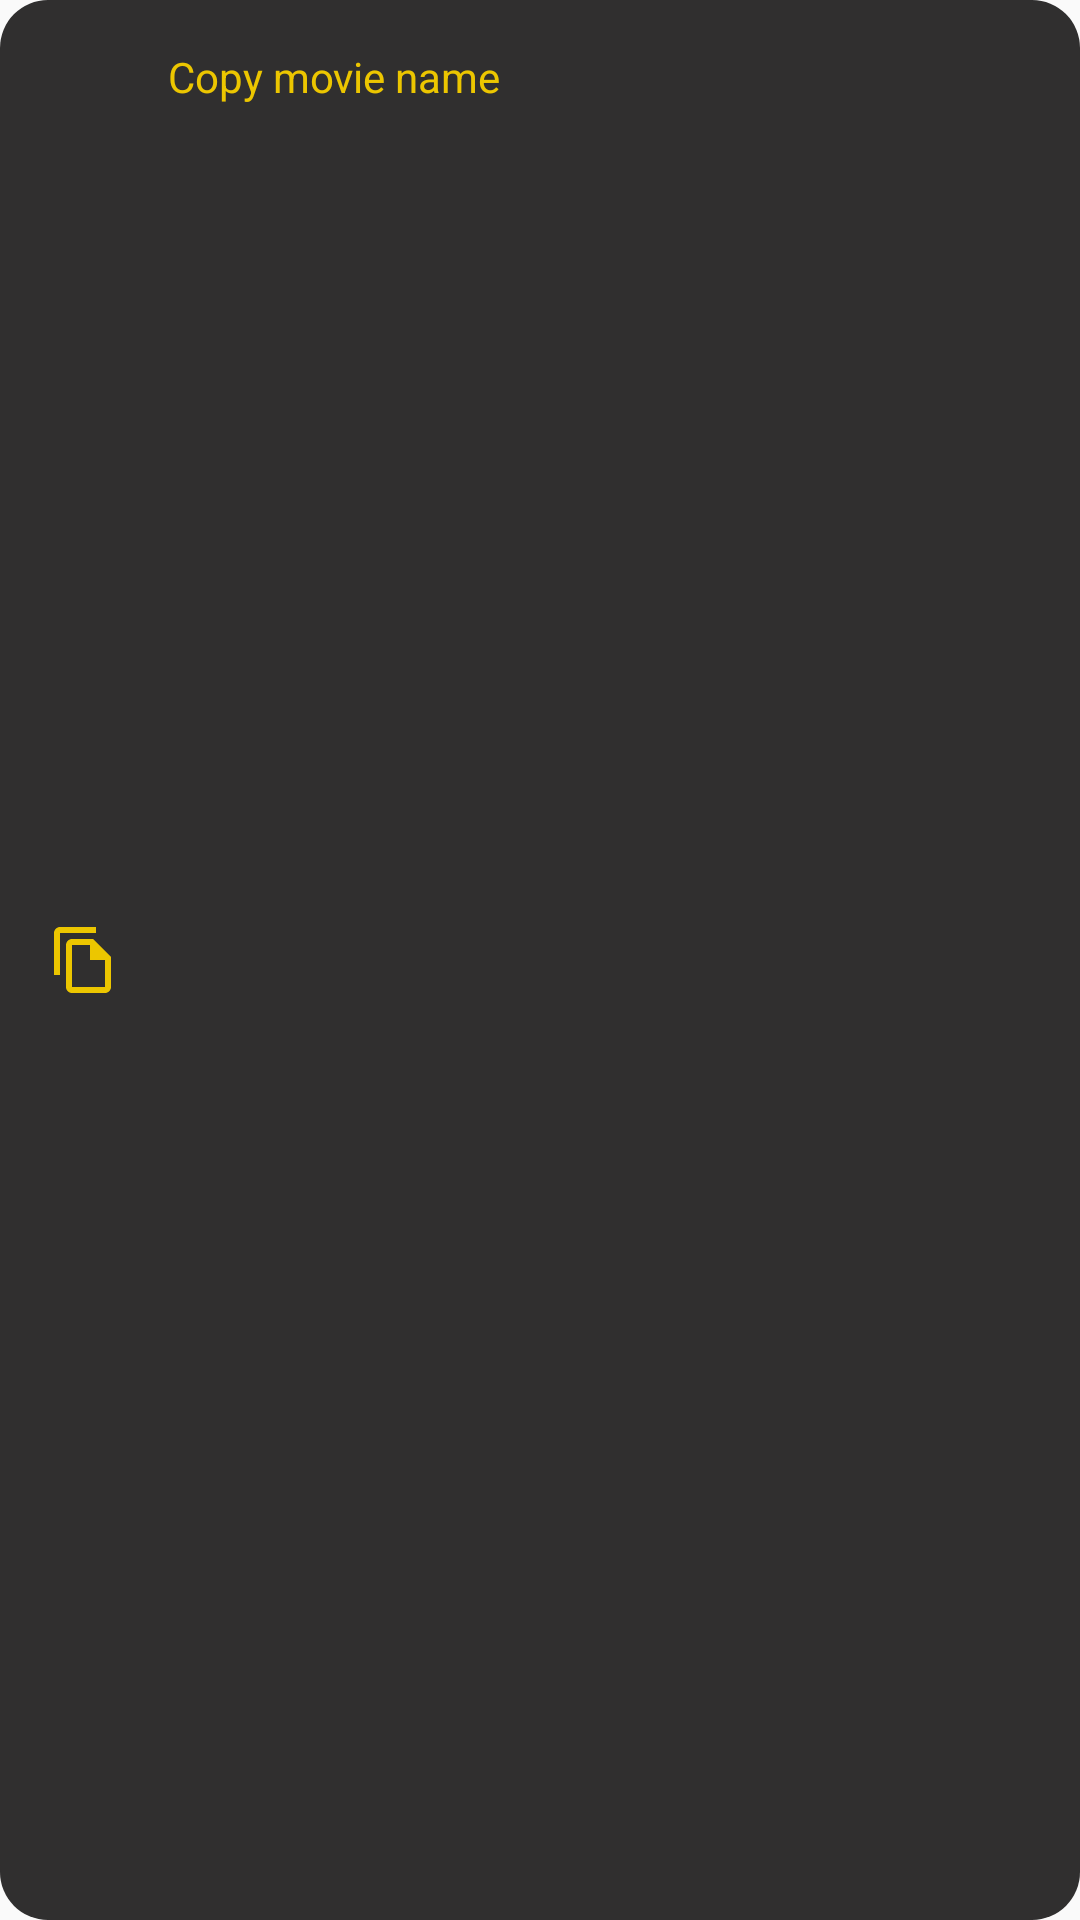

Where to tap for icons on this 1080 x 1920 app screen, as point (x, y):
file: point (82, 960)
